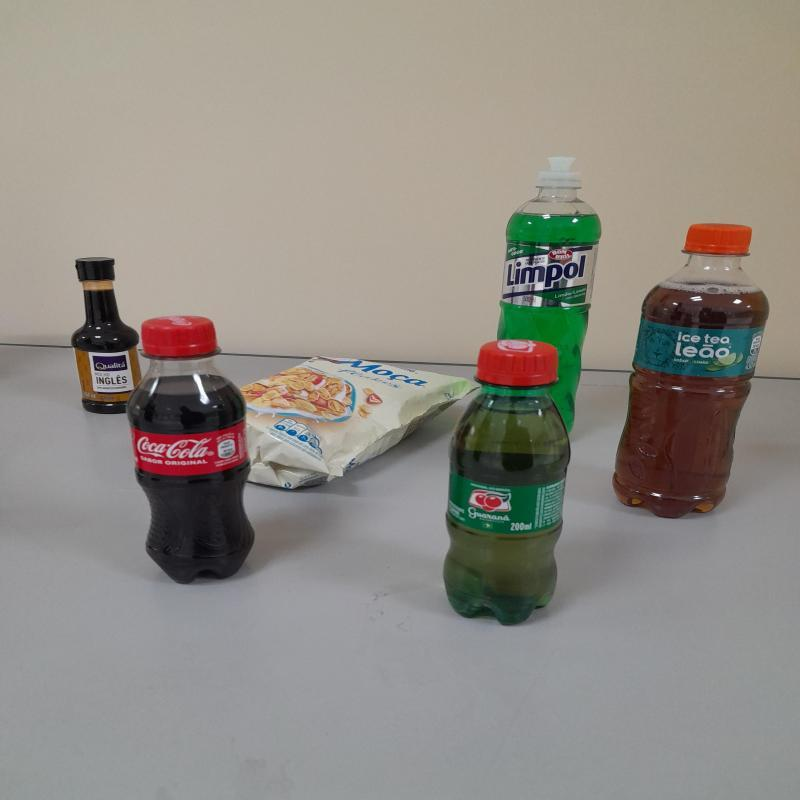Cleaner: (497, 156, 602, 433)
Coke: (129, 315, 256, 580)
CornFlakes: (241, 360, 472, 492)
EnglishSauce: (72, 256, 142, 413)
Guarana: (443, 340, 567, 624)
IceTea: (612, 224, 769, 520)
